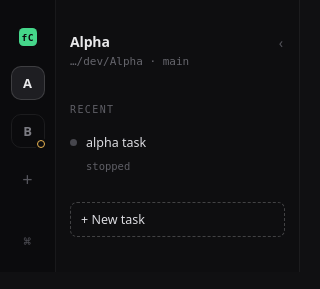
Test: Nav rail → flyout › switches the flyout to the clicked project when already visible
Expected: the text "alpha task" is shown, [86,134,146,152]
Click the button named "Beta" at (28,131), box [10,114,44,148]
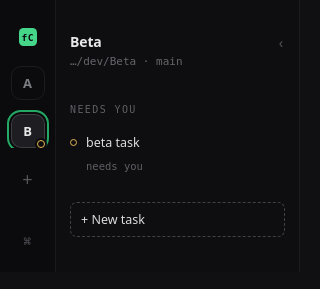
Expected: the text "beta task" is shown, [86,134,143,152]
Expected: the button "alpha task" is gone
